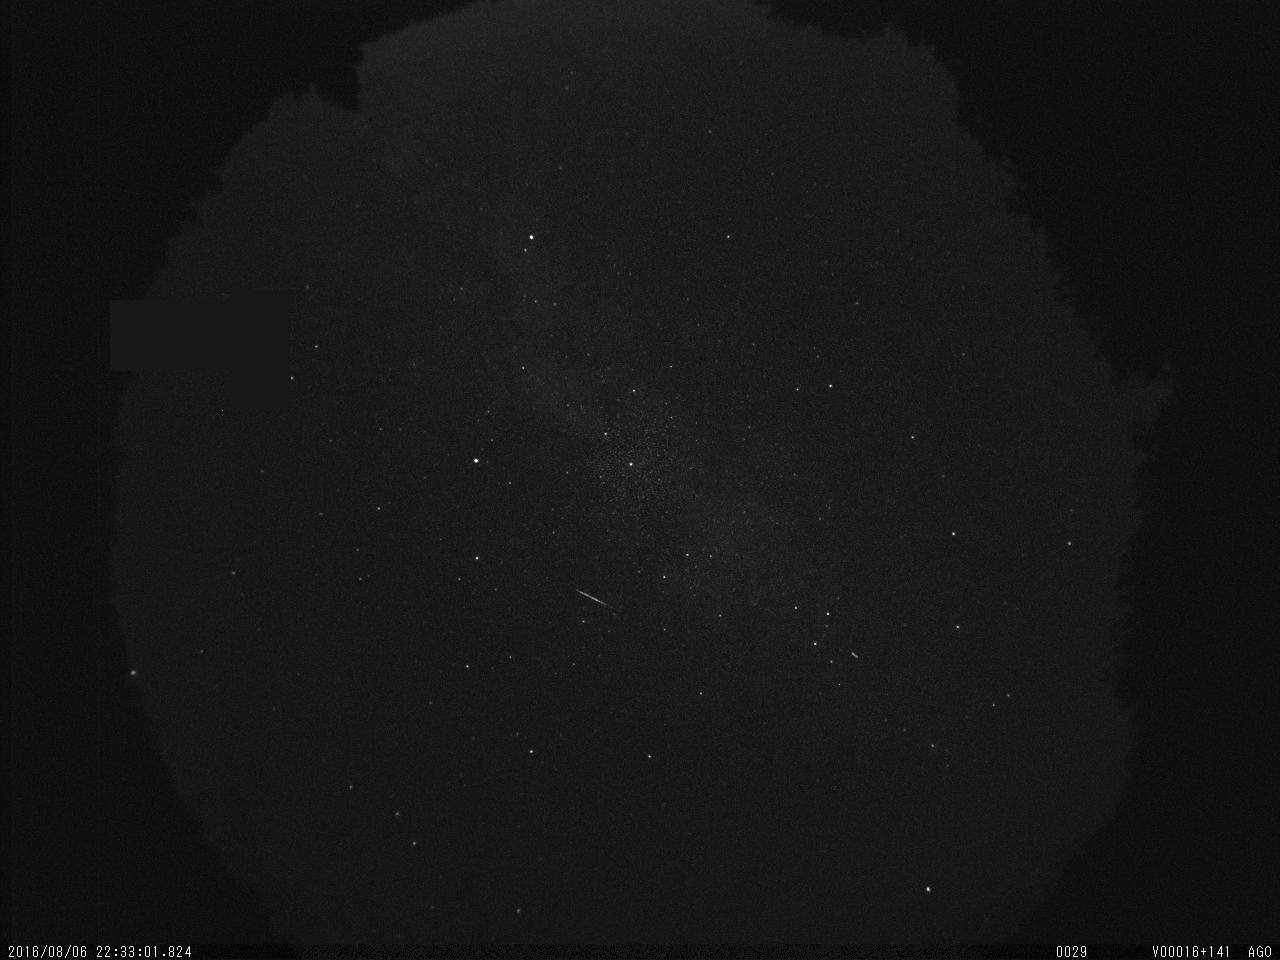meteor: (559, 572, 625, 618)
